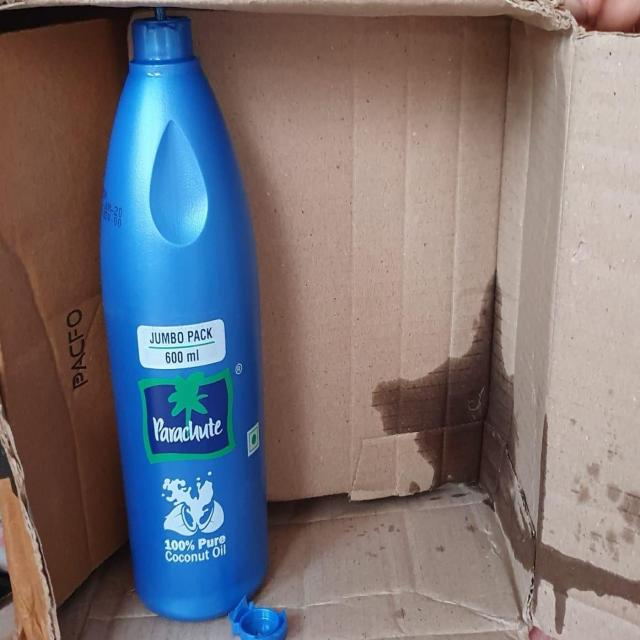parachute_oil: (90, 3, 276, 619)
